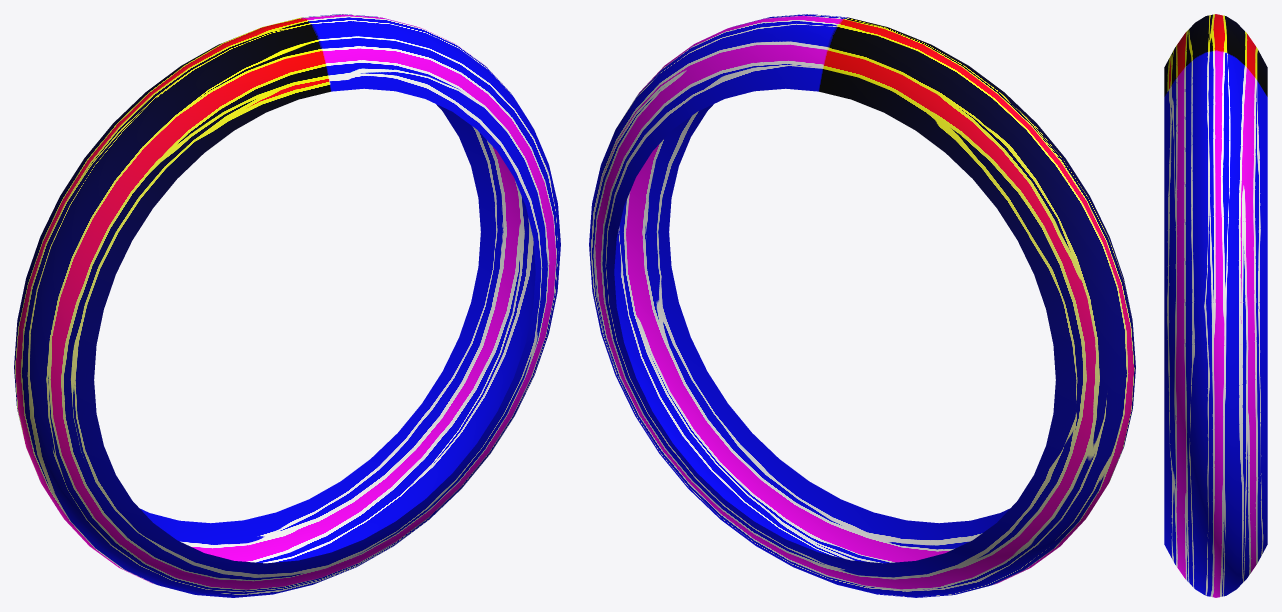
The model's file is Scratch.fbx.
3 views of the same model, side by side, from view 1: azimuth 30°, elevation 25°; view 2: azimuth 150°, elevation 25°; view 3: azimuth 270°, elevation 25° (orthographic). The views are drawn at different scales.
Parts seen in each view (by area): view 1: Eff_Model_BladeTrail_32; view 2: Eff_Model_BladeTrail_32; view 3: Eff_Model_BladeTrail_32.
Boxes of the visible parts, x1=… form: Eff_Model_BladeTrail_32: x1=14, y1=14, x2=560, y2=597; Eff_Model_BladeTrail_32: x1=589, y1=14, x2=1135, y2=597; Eff_Model_BladeTrail_32: x1=1164, y1=14, x2=1267, y2=597.
Bounding box in the file's own units: 117 × 117 × 20.68.
1 material, 1 textured.
